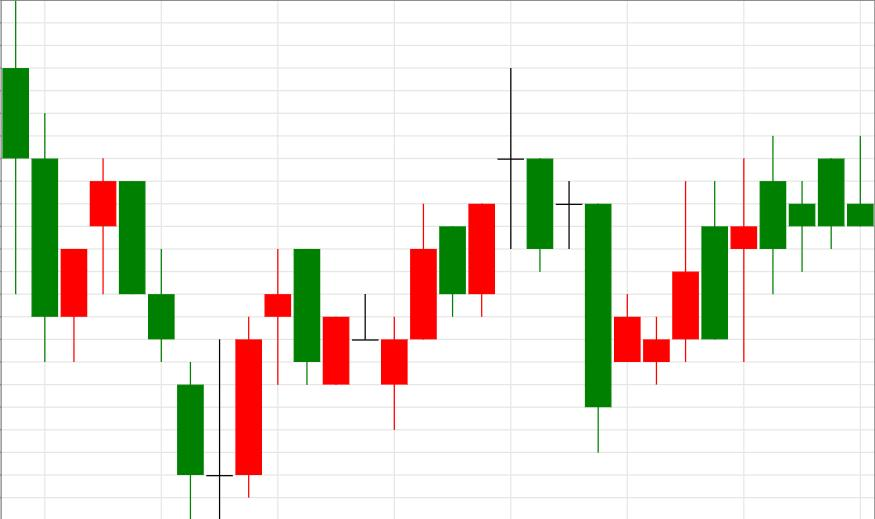evening_star_fall: (381, 68, 553, 431)
morning_star_rise: (120, 182, 262, 519)
